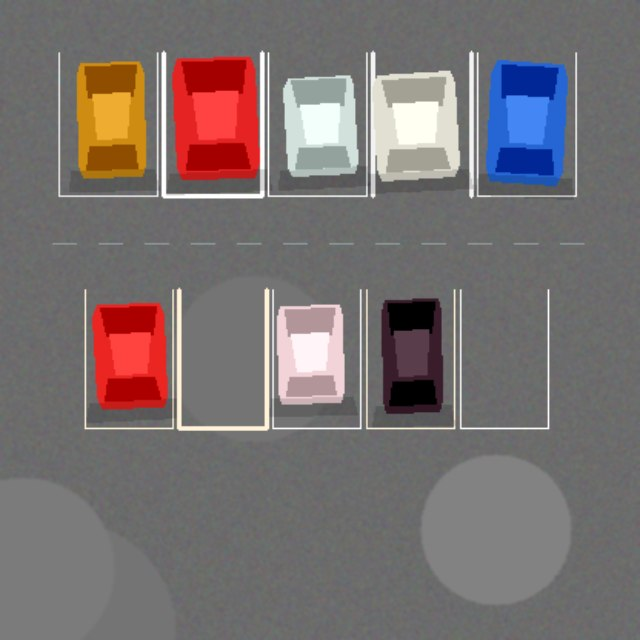space-empty: (178, 289, 266, 428), (460, 289, 548, 428)
space-occupied: (58, 52, 157, 195), (163, 52, 262, 195), (372, 52, 471, 195), (268, 52, 366, 195), (477, 52, 575, 195), (272, 289, 360, 428), (366, 289, 454, 428), (85, 289, 172, 428)
